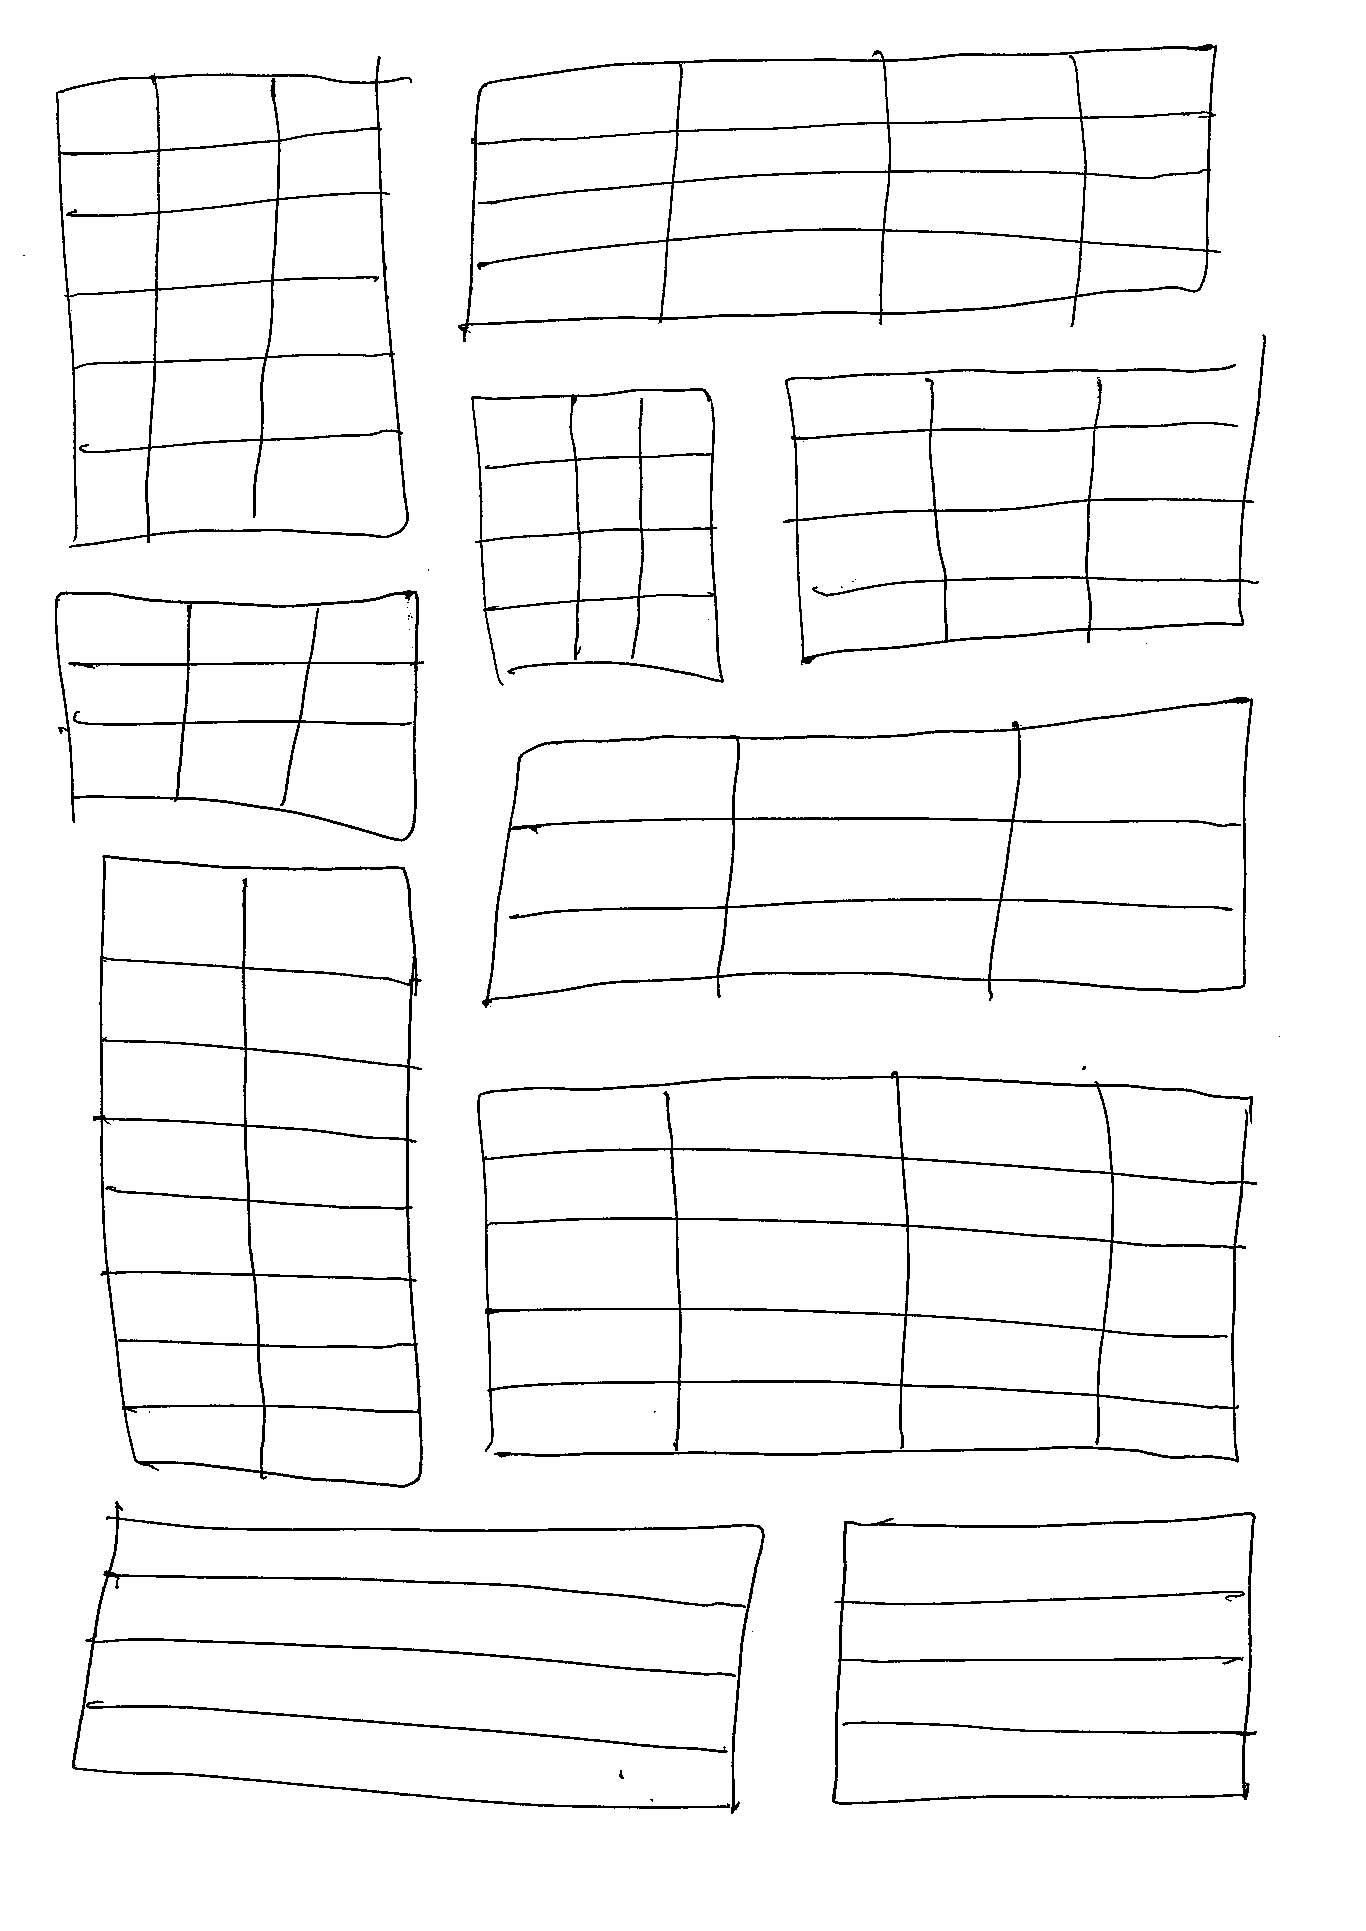Table: (472, 1072, 1254, 1467), (478, 690, 1257, 1007), (457, 38, 1217, 334), (67, 1510, 767, 1814), (98, 852, 426, 1489), (53, 62, 415, 553), (782, 359, 1271, 667), (826, 1507, 1257, 1808), (47, 584, 421, 847), (469, 381, 727, 689)
